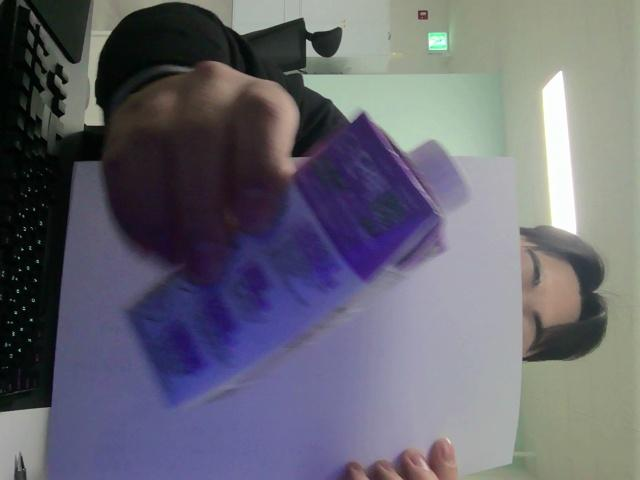milk: (131, 114, 468, 404)
